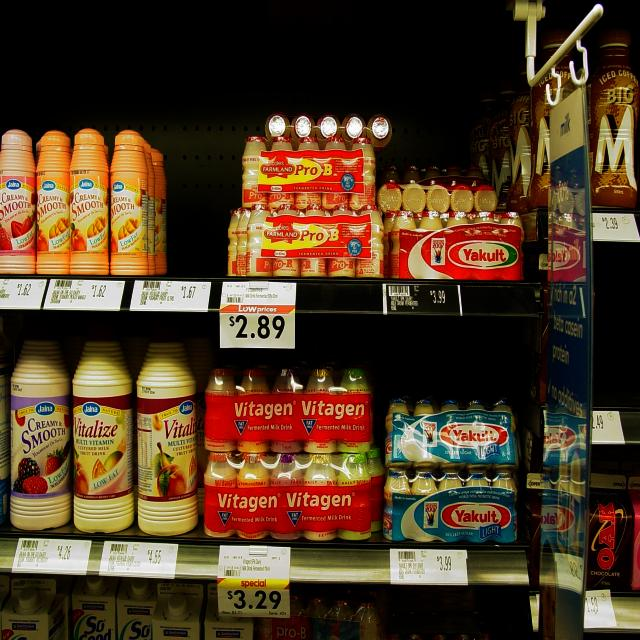empty_space: (390, 319, 521, 399), (592, 257, 640, 403), (167, 156, 226, 269)
